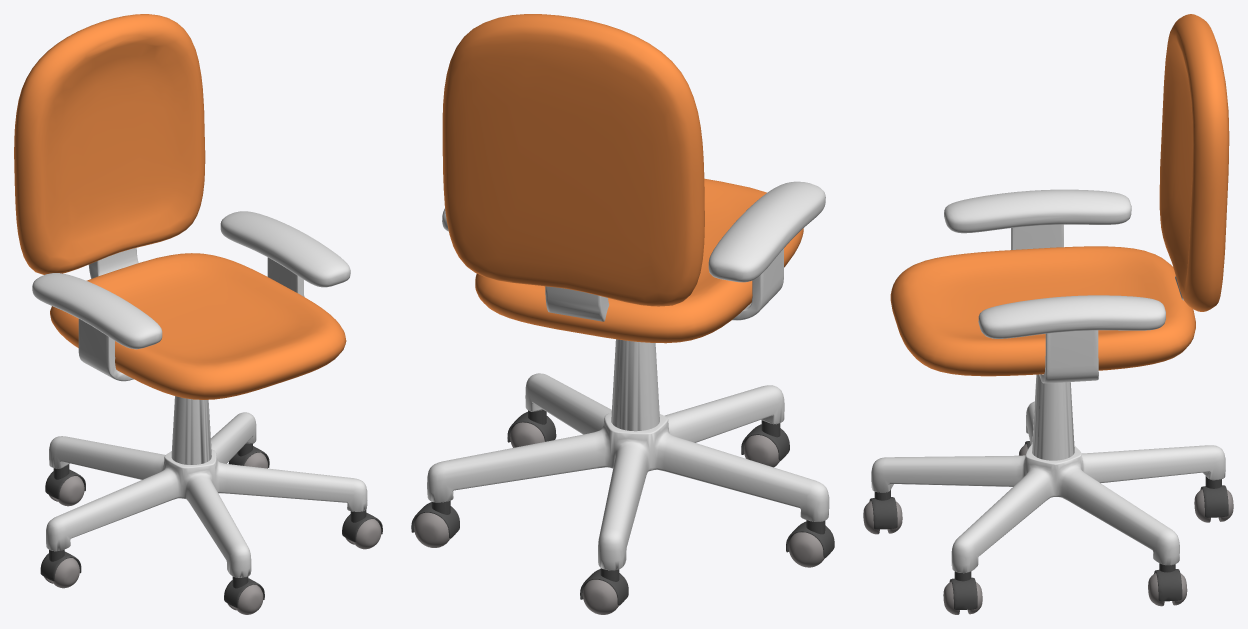
File: Silla.fbx
3 renders of one model, left to right at view 1: azimuth 30°, elevation 25°; view 2: azimuth 150°, elevation 25°; view 3: azimuth 270°, elevation 25°, orthographic. The views are drawn at different scales.
Parts seen in each view (by area): view 1: Silla, Ruedas; view 2: Silla, Ruedas; view 3: Silla, Ruedas.
Boxes of the visible parts, x1,y1,x2,y2 form: Silla: [14, 14, 367, 577]; Ruedas: [40, 443, 382, 614]; Silla: [427, 14, 829, 570]; Ruedas: [411, 410, 834, 614]; Silla: [871, 14, 1229, 573]; Ruedas: [863, 441, 1233, 614].
Bounding box in the file's own units: 10.68 × 16.3 × 10.81.
